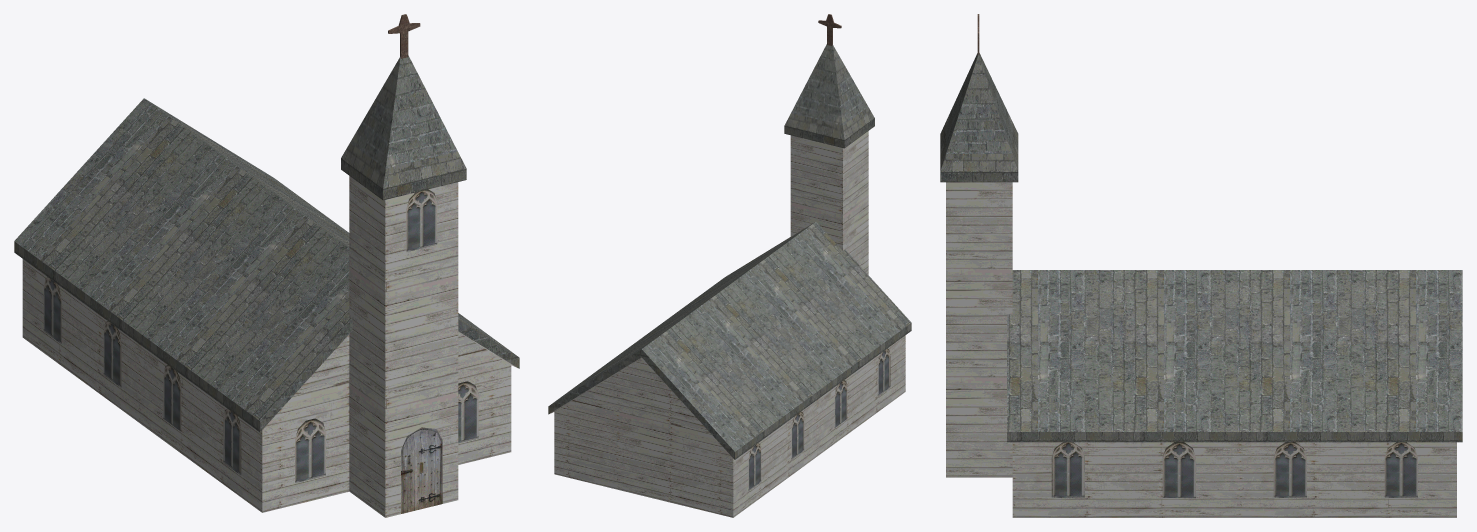
File: PSX Abandoned Church.fbx
3 renders of one model, left to right at view 1: azimuth 30°, elevation 25°; view 2: azimuth 150°, elevation 25°; view 3: azimuth 270°, elevation 25°, orthographic. The views are drawn at different scales.
Parts seen in each view (by area): view 1: PSX Abandoned Church; view 2: PSX Abandoned Church; view 3: PSX Abandoned Church.
Part boxes in pixels (x1,y1,x2,y2): PSX Abandoned Church: (14,14,519,517); PSX Abandoned Church: (548,14,911,517); PSX Abandoned Church: (940,14,1462,517).
Bounding box in the file's own units: 626 × 1108 × 1176.
